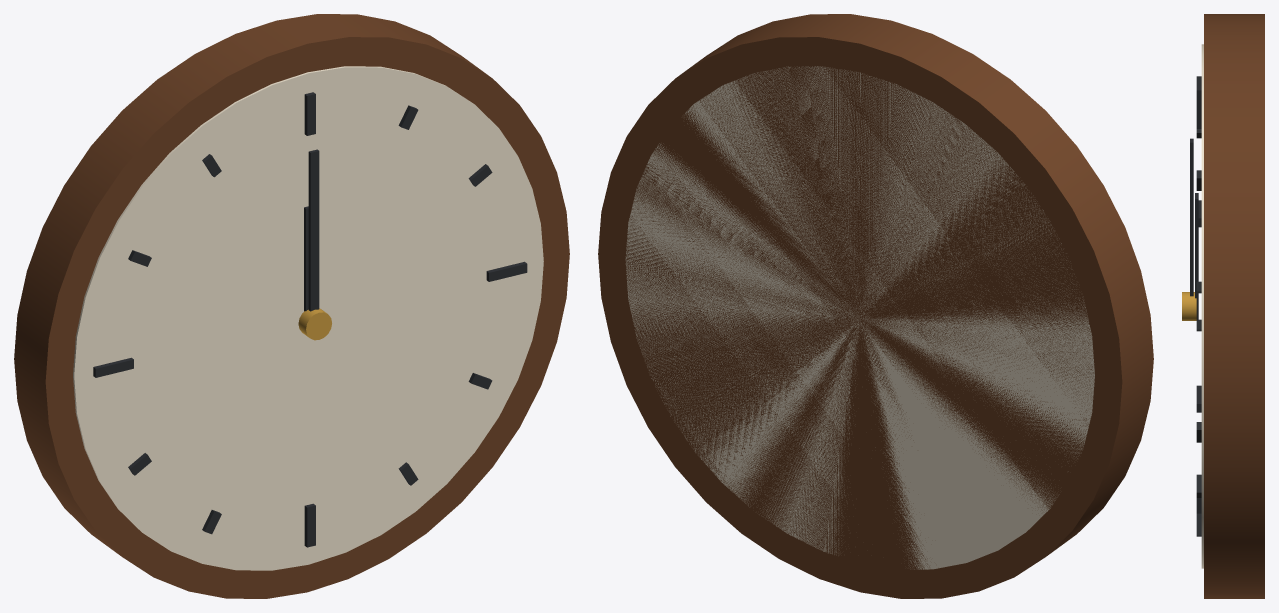
Rendered from wall-clock.glb.
3 renders of one model, left to right at view 1: azimuth 30°, elevation 25°; view 2: azimuth 150°, elevation 25°; view 3: azimuth 270°, elevation 25°, orthographic. The views are drawn at different scales.
Visible parts, largest first — view 1: cream, woodDark, charcoal, minuteHand, brass; view 2: woodDark, cream; view 3: woodDark, cream, charcoal, minuteHand, hourHand, brass.
Boxes of the visible parts, bbox=[...] form: cream: bbox=[73, 66, 543, 570]; woodDark: bbox=[14, 14, 569, 598]; charcoal: bbox=[93, 92, 527, 547]; minuteHand: bbox=[308, 149, 319, 311]; brass: bbox=[298, 308, 331, 340]; woodDark: bbox=[598, 14, 1153, 598]; cream: bbox=[625, 66, 1094, 569]; woodDark: bbox=[1204, 14, 1264, 598]; cream: bbox=[1201, 44, 1203, 568]; charcoal: bbox=[1196, 76, 1201, 536]; minuteHand: bbox=[1190, 138, 1193, 296]; hourHand: bbox=[1195, 193, 1198, 320]; brass: bbox=[1182, 292, 1196, 320].
Bounding box in the file's own units: 0.48 × 0.48 × 0.068.
